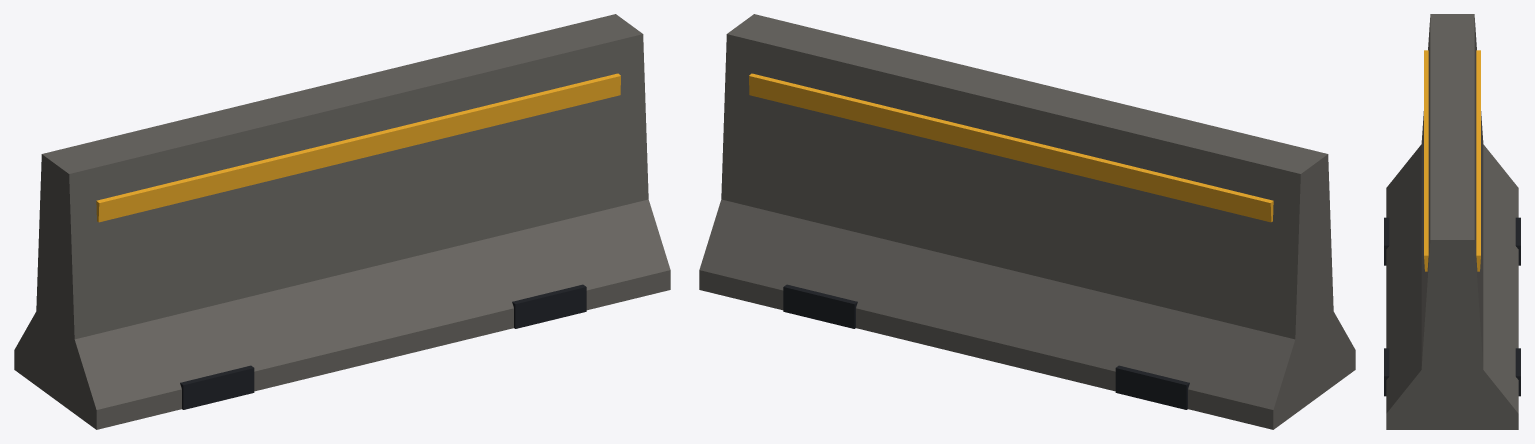
The model's file is barrier.glb.
3 renders of one model, left to right at view 1: azimuth 30°, elevation 25°; view 2: azimuth 150°, elevation 25°; view 3: azimuth 270°, elevation 25°, orthographic. The views are drawn at different scales.
Parts seen in each view (by area): view 1: barrier_mesh; view 2: barrier_mesh; view 3: barrier_mesh.
Part boxes in pixels (x1=…): barrier_mesh: x1=14, y1=14, x2=670, y2=429; barrier_mesh: x1=699, y1=14, x2=1355, y2=429; barrier_mesh: x1=1384, y1=14, x2=1520, y2=429.
Bounding box in the file's own units: 2.42 × 0.95 × 0.62.
